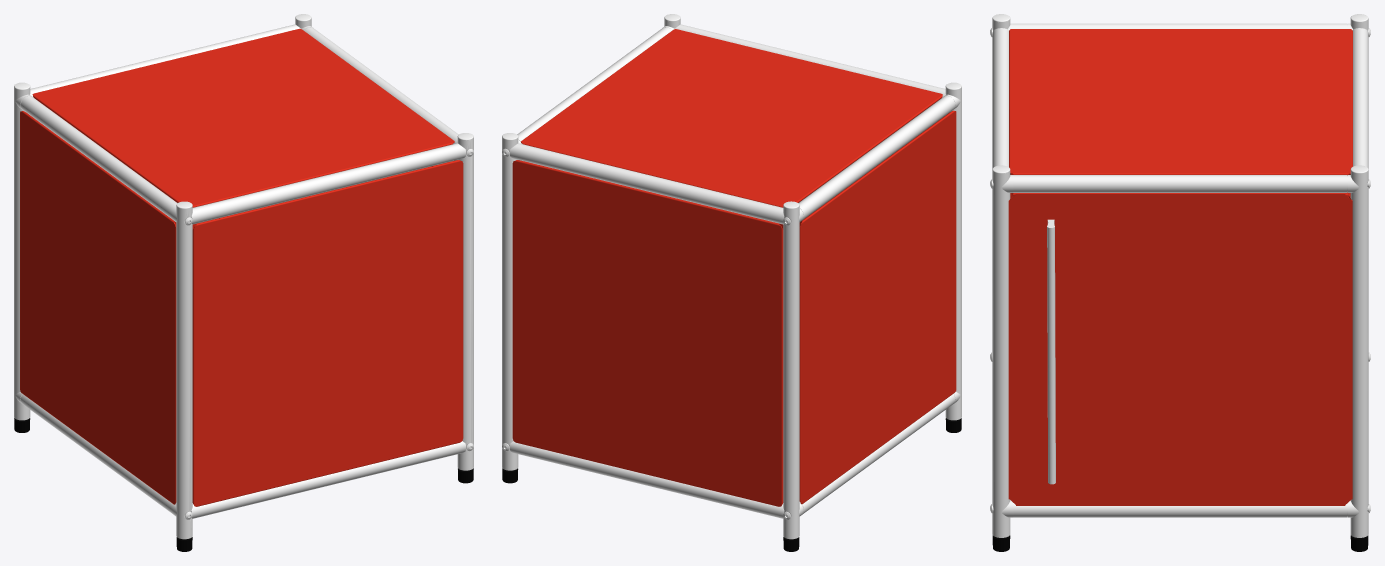
The model's file is 40x40x40-2-4-red_optimized_optimized.glb.
The picture shows the model from 3 angles, left to right: view 1: azimuth 30°, elevation 25°; view 2: azimuth 150°, elevation 25°; view 3: azimuth 270°, elevation 25°; orthographic projection. The views are drawn at different scales.
Parts seen in each view (by area): view 1: 直角鐵板-40x40-5 - 零件, 反-鐵管-40-354..4-1 - 零件, 圓形腳+調整器-1 - 零件; view 2: 直角鐵板-40x40-5 - 零件, 反-鐵管-40-354..4-1 - 零件, 圓形腳+調整器-1 - 零件; view 3: 直角鐵板-40x40-5 - 零件, 反-鐵管-40-354..4-1 - 零件, 圓形腳+調整器-1 - 零件.
Part boxes in pixels (bbox=[...]): 直角鐵板-40x40-5 - 零件: bbox=[20, 28, 463, 506]; 反-鐵管-40-354..4-1 - 零件: bbox=[14, 14, 473, 539]; 圓形腳+調整器-1 - 零件: bbox=[14, 418, 473, 551]; 直角鐵板-40x40-5 - 零件: bbox=[512, 29, 956, 506]; 反-鐵管-40-354..4-1 - 零件: bbox=[502, 14, 961, 539]; 圓形腳+調整器-1 - 零件: bbox=[502, 418, 961, 551]; 直角鐵板-40x40-5 - 零件: bbox=[1008, 29, 1352, 505]; 反-鐵管-40-354..4-1 - 零件: bbox=[990, 14, 1370, 537]; 圓形腳+調整器-1 - 零件: bbox=[992, 535, 1368, 551].
Bounding box in the file's own units: 0.4203 × 0.4453 × 0.4035.
